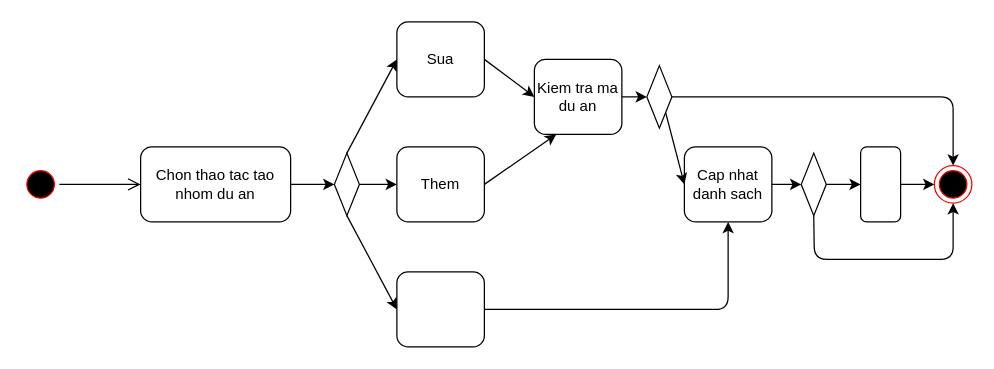
The diagram is 994 pixels wide and 369 high, and some of its shapes have lost their labels. Each missing label, with the box of its shape:
In: (859, 146, 901, 222)
Xoa: (396, 271, 484, 347)
